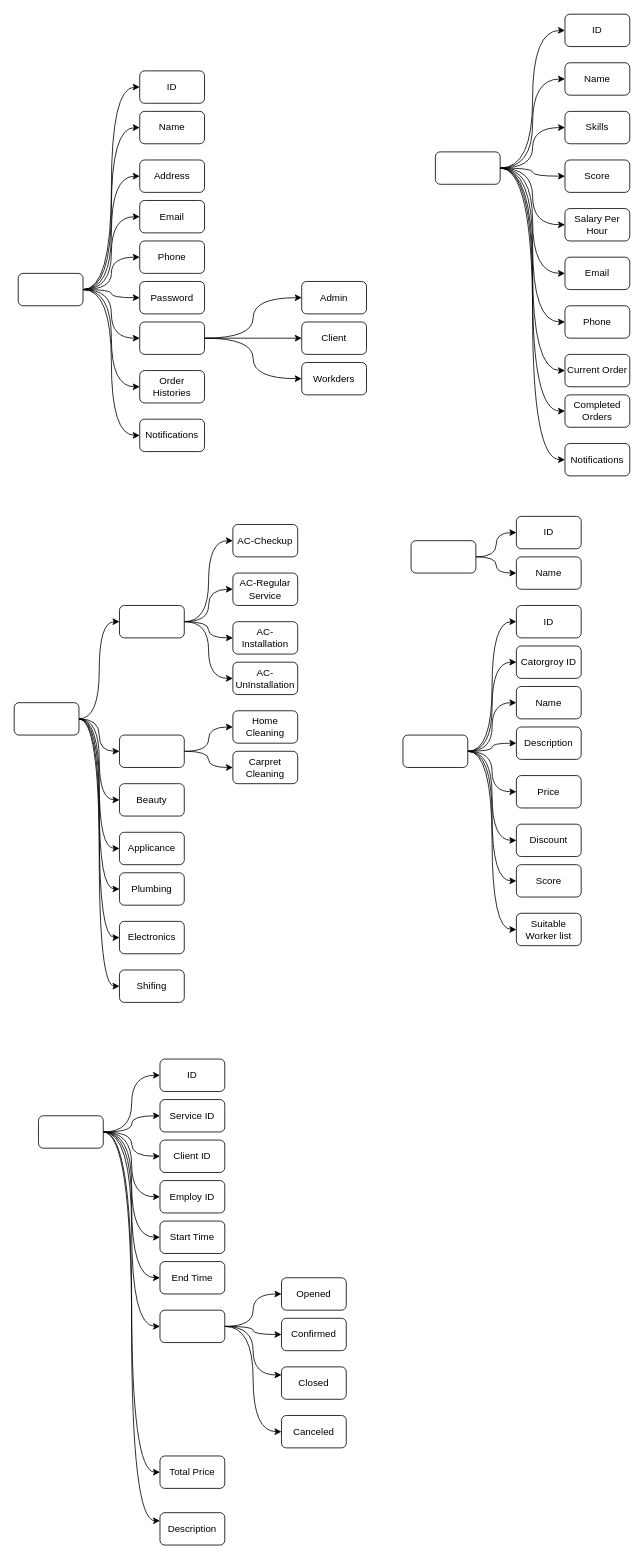
Some shapes in this 644 by 1559 pixel diagram are drawn without their labels. The shapes that lost their labels are listed below. From the top down, each one's box as (x1, y1, x2, y2) in pixels, then its label:
(435, 151, 500, 184): Workers
(17, 273, 83, 306): Clients
(139, 321, 205, 354): Role
(410, 540, 476, 573): Catorgroy
(119, 605, 184, 638): AC Repair
(13, 702, 79, 735): Catogroies
(119, 734, 184, 767): Cleaning
(402, 734, 468, 767): Service
(38, 1115, 103, 1148): Order
(159, 1309, 225, 1343): State
